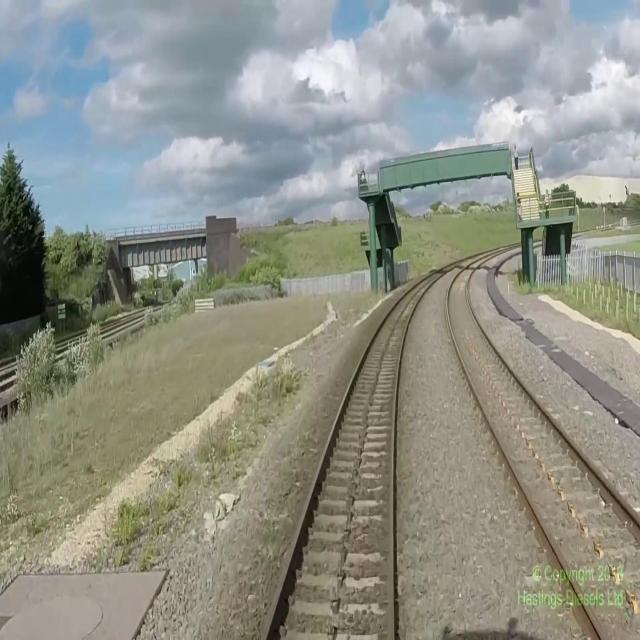rail-track: (265, 249, 498, 639), (448, 251, 640, 639)
